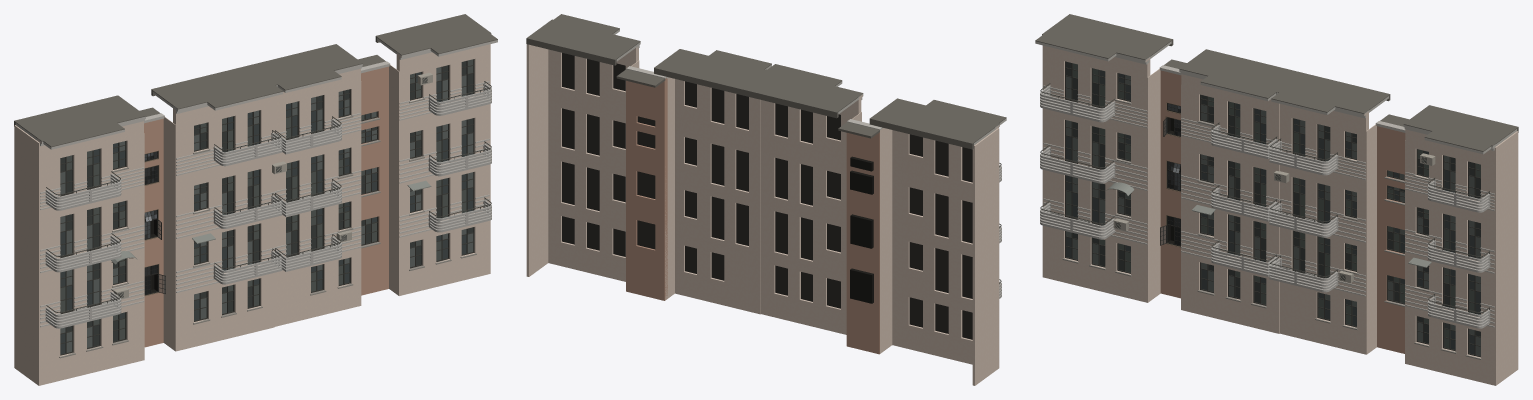
The model's file is jingan-jkk-apartments-changle-street-front-lod.glb.
3 views of the same model, side by side, from view 1: azimuth 30°, elevation 25°; view 2: azimuth 150°, elevation 25°; view 3: azimuth 330°, elevation 25° (orthographic).
Parts seen in each view (by area): view 1: J.K.K.公寓长乐路临街立面与弧形阳台; view 2: J.K.K.公寓长乐路临街立面与弧形阳台; view 3: J.K.K.公寓长乐路临街立面与弧形阳台.
Boxes of the visible parts, left/top/right/bottom form: J.K.K.公寓长乐路临街立面与弧形阳台: left=14, top=14, right=497, bottom=385; J.K.K.公寓长乐路临街立面与弧形阳台: left=526, top=14, right=1006, bottom=385; J.K.K.公寓长乐路临街立面与弧形阳台: left=1035, top=14, right=1518, bottom=385.
Size of the model in its own units: 29.56 by 15.32 by 4.23.
Materials: 28 (1 with a texture image).
